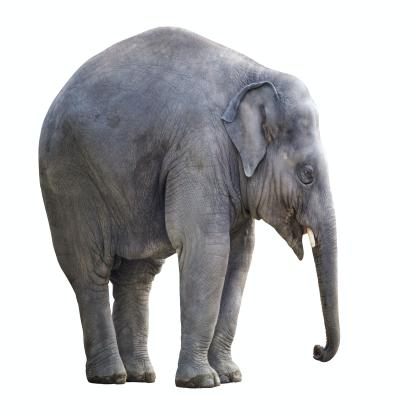Elephas-maximus: (38, 25, 341, 390)
